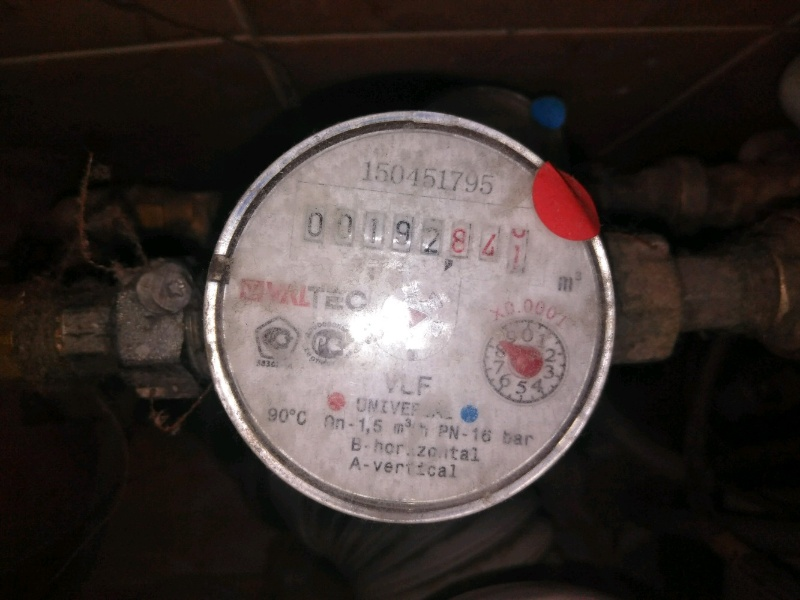meter: (292, 196, 542, 271)
